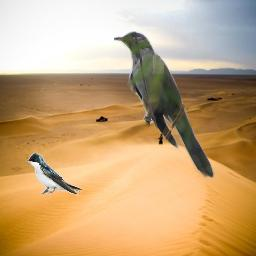Cuckoo: (114, 31, 219, 180)
Swallow: (26, 152, 83, 196)
